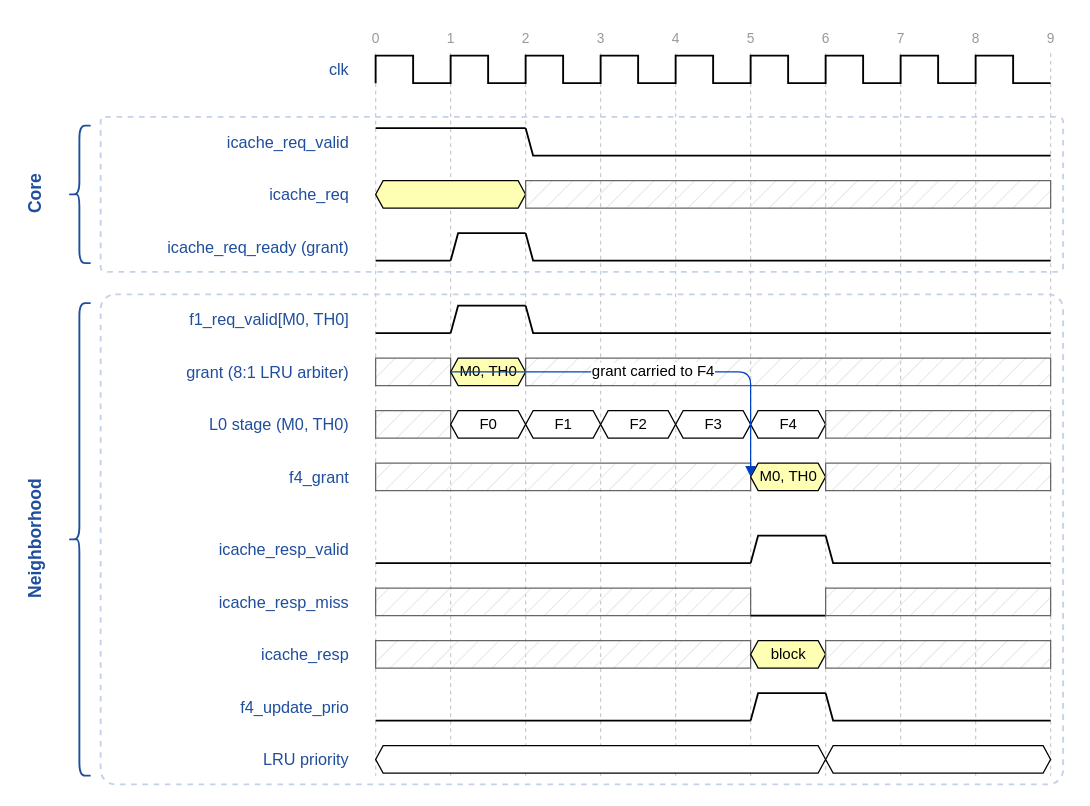
Some shapes in this 1090 by 806 pixel diagram are drawn without their labels. The shapes that lost their labels are listed below. From the top down, each one's centre as x and y in pixels, then its label:
point (450, 193): M0, TH0 @ PC
point (600, 758): M0, TH0 highest
point (937, 758): M0, TH0 behind the others
